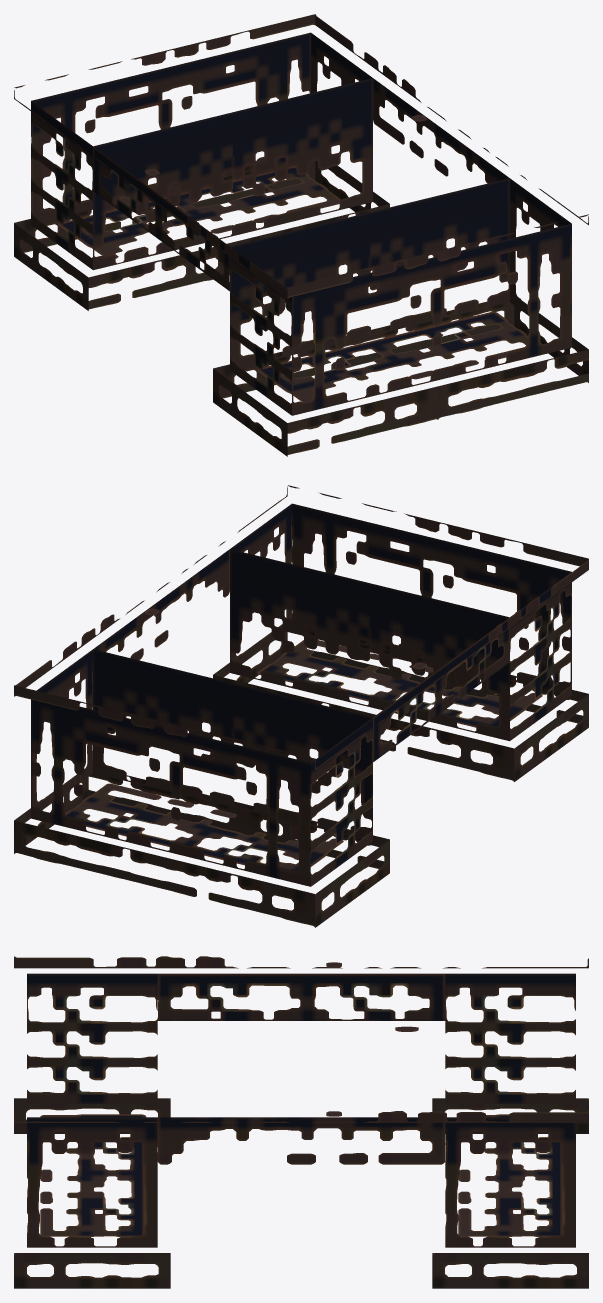
File: ObjMD_Residence_Desk_A.FBX
The picture shows the model from 3 angles, top to bottom: view 1: azimuth 30°, elevation 25°; view 2: azimuth 150°, elevation 25°; view 3: azimuth 270°, elevation 25°; orthographic projection. The views are drawn at different scales.
Visible parts, largest first — view 1: ObjMD_Residence_Desk_A; view 2: ObjMD_Residence_Desk_A; view 3: ObjMD_Residence_Desk_A.
Part boxes in pixels (x1,y1,x2,y2): ObjMD_Residence_Desk_A: (14, 14, 588, 456); ObjMD_Residence_Desk_A: (14, 485, 588, 927); ObjMD_Residence_Desk_A: (14, 956, 588, 1288).
Size of the model in its own units: 175 by 93.75 by 275.
